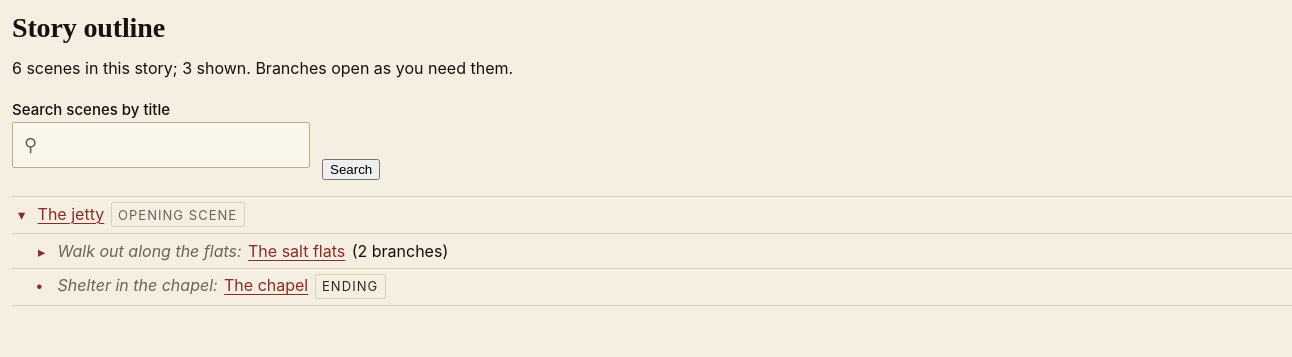
Test case: lazy loading › fetches a branch only when it is opened
This screenshot has width=1292, height=357.
Check: the text "Mile one" is not shown
What coordinates should you click on to do the following:
click the button with test id "outline-toggle" showing "▸"
I would click on:
 (42, 252)
Its box is [32,244,51,260].
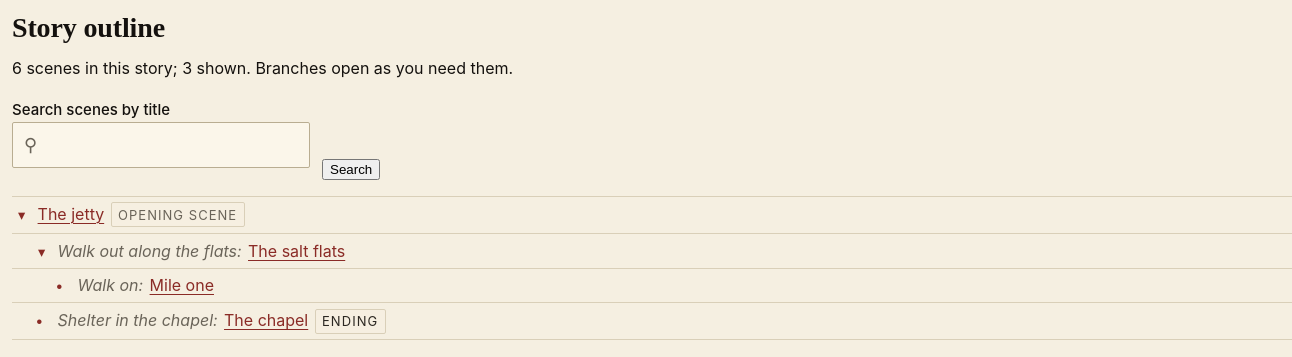
Check: the link "Mile one" is shown, box [150,274,214,296]
